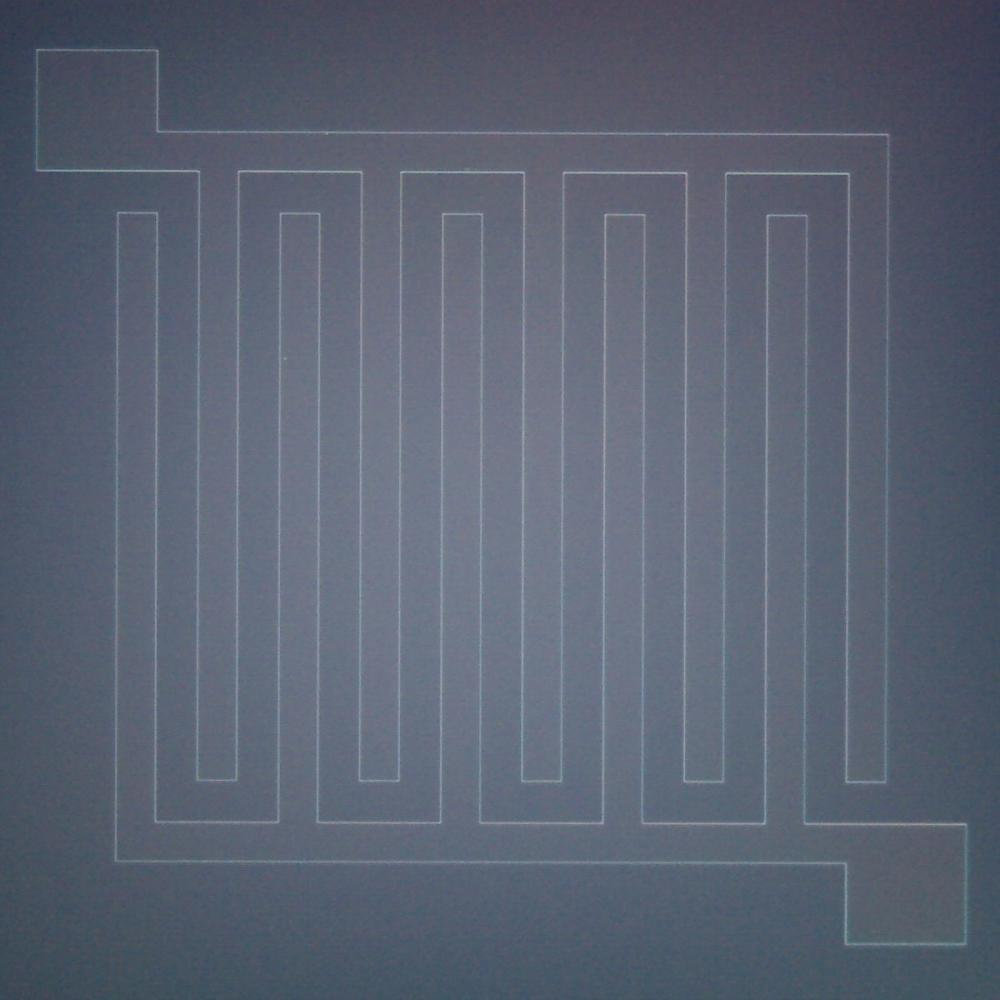dot: (284, 357, 288, 361)
